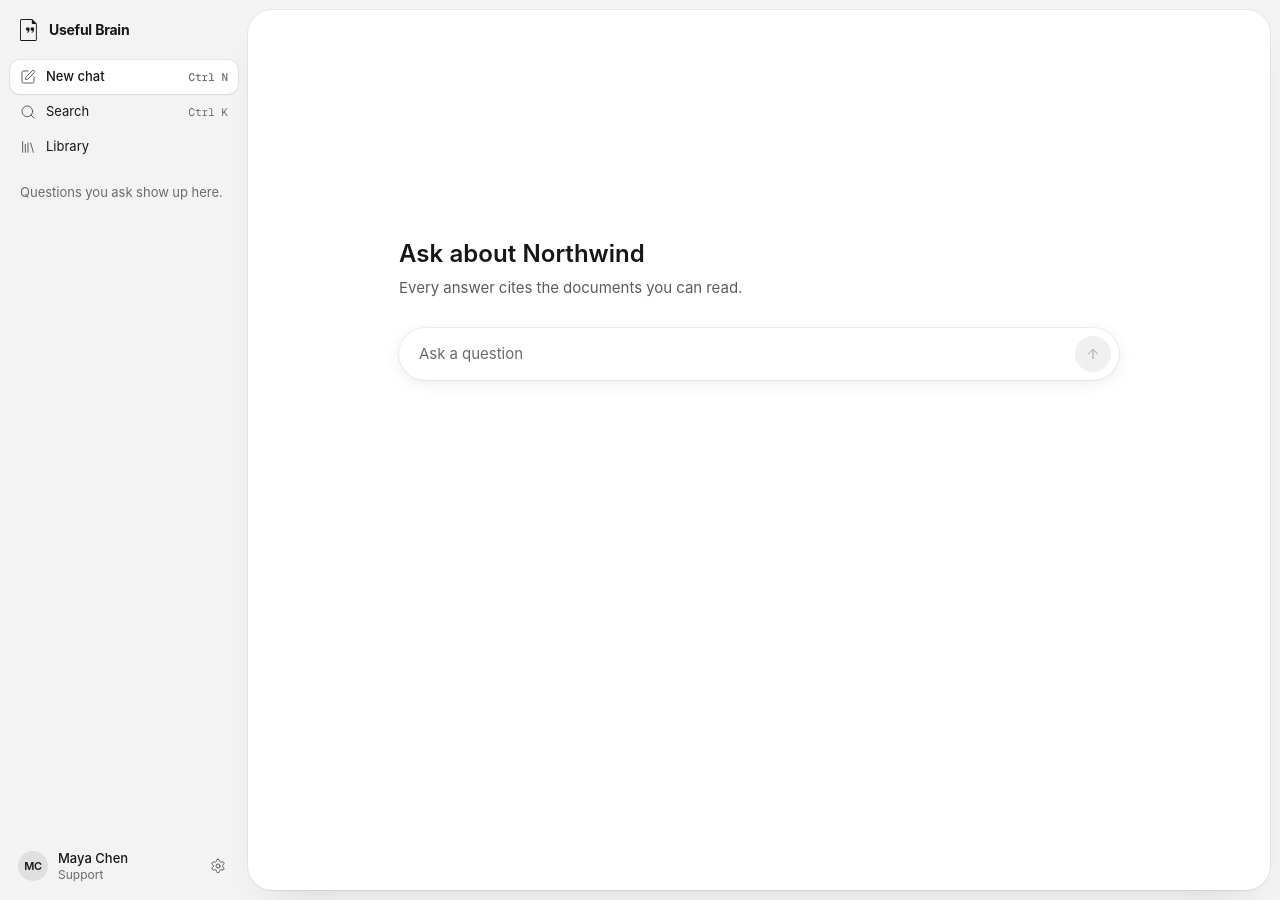
Test: answer › shows the stored meta once the stored turn is read back
Type "How much parental leave do I get?" into the text box labelled "question".
click(747, 354); type("How much parental leave do I get?")  # box [419,342,1075,366]
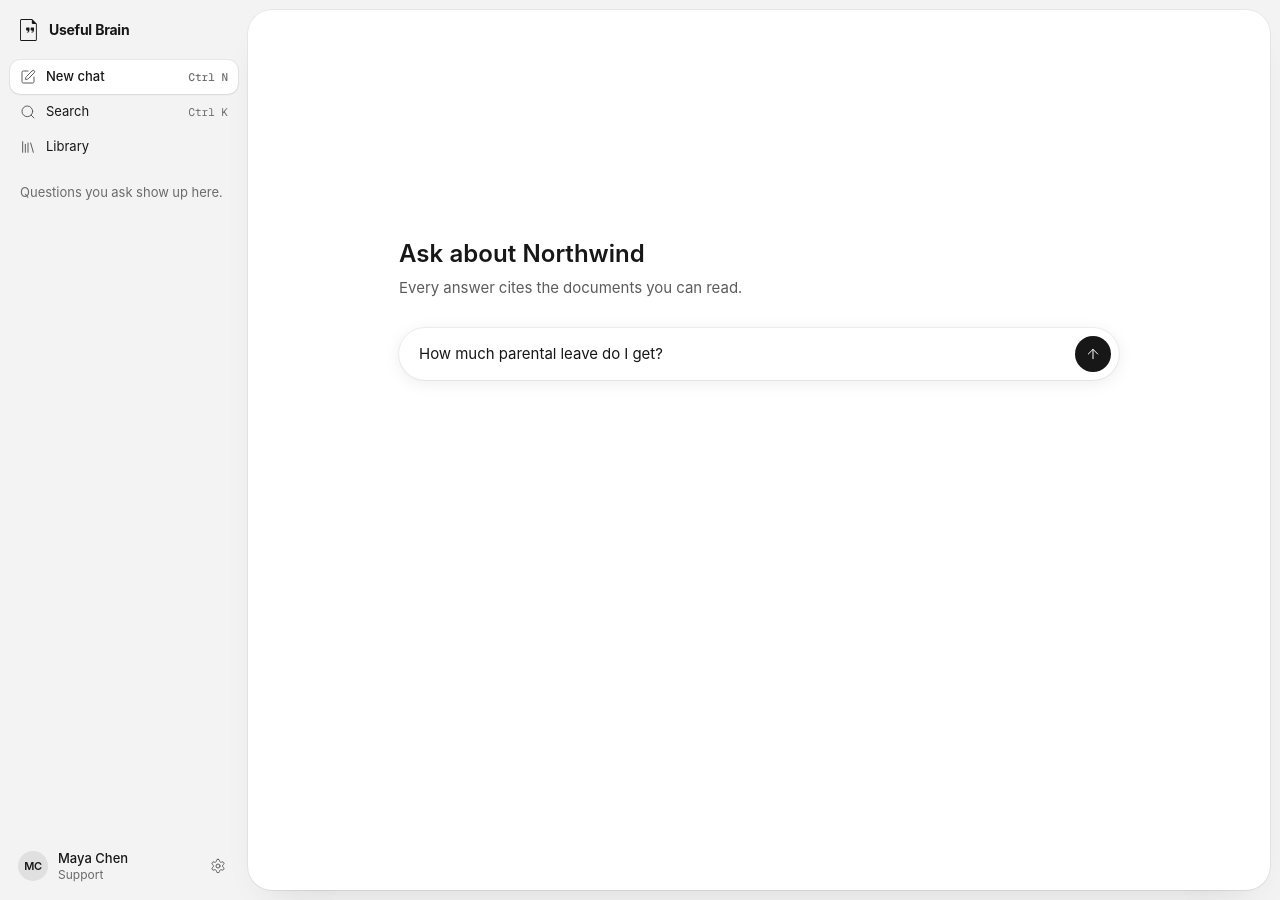
Click the button named "Send".
click(1093, 354)  # box [1075,336,1111,372]
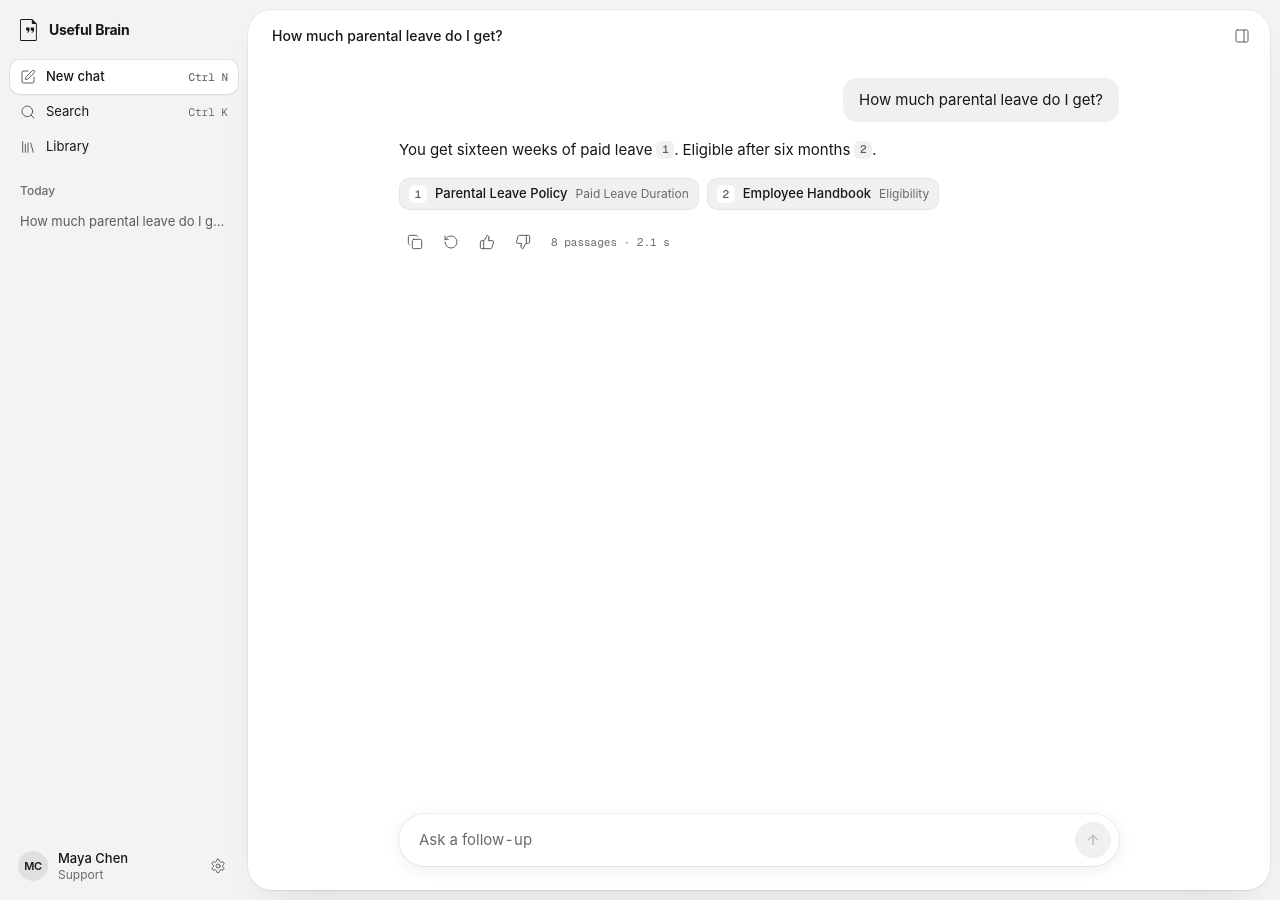
Expected: the text "8 passages · 2.1 s" is shown, [551,234,670,250]
